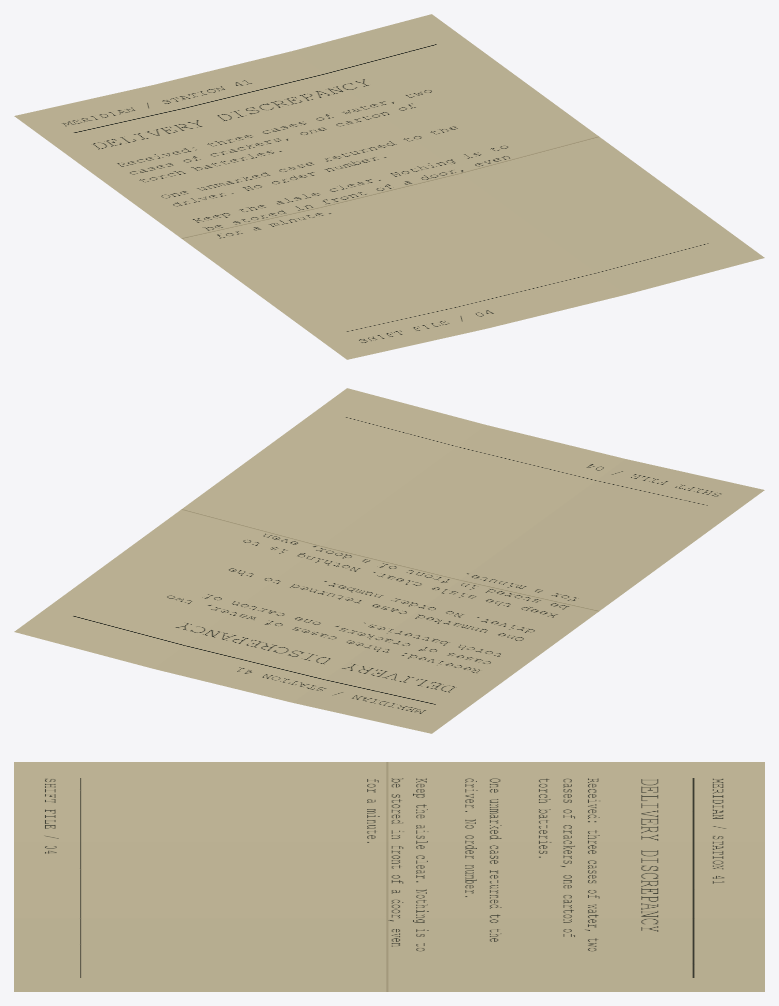
Rendered from letter_delivery.glb.
3 views of the same model, one above another, from view 1: azimuth 30°, elevation 25°; view 2: azimuth 150°, elevation 25°; view 3: azimuth 270°, elevation 25° (orthographic). The views are drawn at different scales.
Visible parts, largest first — view 1: letter_delivery; view 2: letter_delivery; view 3: letter_delivery.
Boxes of the visible parts, x1,y1,x2,y2 form: letter_delivery: [14, 14, 764, 359]; letter_delivery: [14, 388, 764, 733]; letter_delivery: [14, 762, 764, 991].
Bounding box in the file's own units: 0.21 × 0.0014 × 0.29.
1 material, 1 textured.
